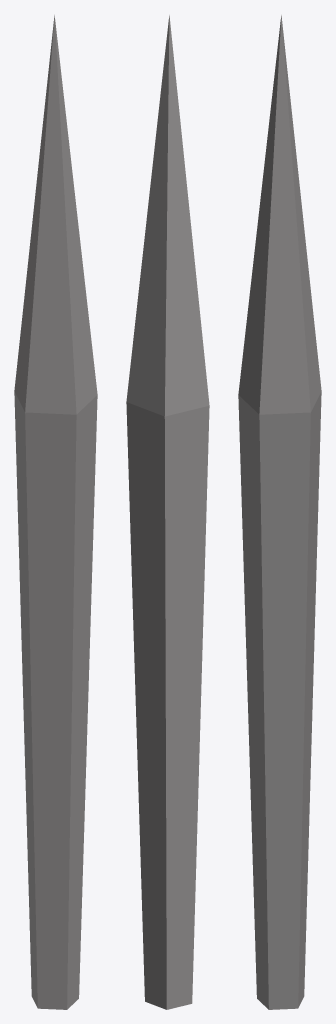
File: MetalSpike_4.fbx
The picture shows the model from 3 angles, left to right: view 1: azimuth 30°, elevation 25°; view 2: azimuth 210°, elevation 25°; view 3: azimuth 330°, elevation 25°; orthographic projection.
Visible parts, largest first — view 1: MetalSpike_4; view 2: MetalSpike_4; view 3: MetalSpike_4.
Boxes of the visible parts, x1,y1,x2,y2 form: MetalSpike_4: (14, 15, 97, 1009); MetalSpike_4: (126, 15, 209, 1009); MetalSpike_4: (238, 15, 321, 1009).
Bounding box in the file's own units: 6.24 × 81.15 × 5.93.
